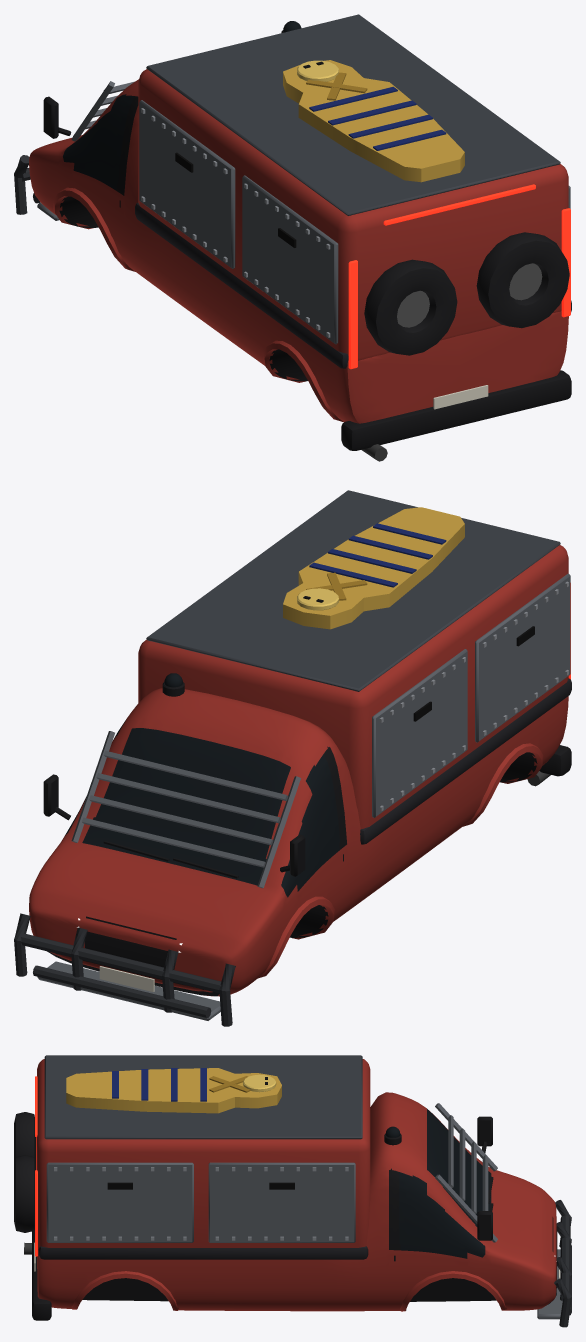
The model's file is car_sarcophagus.glb.
The picture shows the model from 3 angles, top to bottom: view 1: azimuth 30°, elevation 25°; view 2: azimuth 150°, elevation 25°; view 3: azimuth 270°, elevation 25°; orthographic projection. The views are drawn at different scales.
Parts seen in each view (by area): view 1: parts, body, lips; view 2: parts, body, lips, strip1; view 3: parts, body, lips.
Boxes of the visible parts, box(x1,y1,x2,y2) form: parts: box(14, 14, 571, 461); body: box(29, 79, 568, 423); lips: box(53, 187, 343, 422); parts: box(14, 490, 571, 1026); body: box(29, 688, 568, 996); lips: box(258, 743, 543, 978); strip1: box(85, 916, 176, 967); parts: box(14, 1055, 571, 1327); body: box(37, 1092, 556, 1311); lips: box(72, 1271, 506, 1311).
Size of the model in its own units: 2.35 by 2.33 by 5.69.
